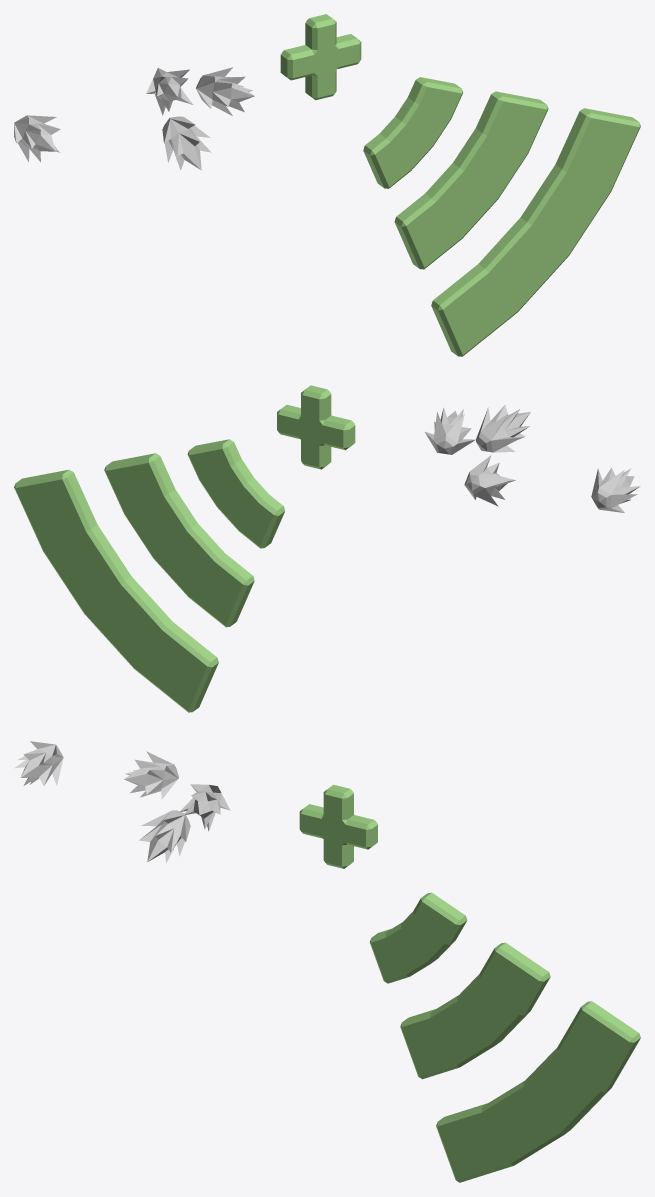
The model's file is FeedBackPack.fbx.
3 renders of one model, top to bottom at view 1: azimuth 30°, elevation 25°; view 2: azimuth 150°, elevation 25°; view 3: azimuth 330°, elevation 25°, orthographic. The views are drawn at different scales.
Visible parts, largest first — view 1: FB_Com, FB__FireTriple, FB_HealthRegen, FB__Fire; view 2: FB_Com, FB__FireTriple, FB_HealthRegen, FB__Fire; view 3: FB_Com, FB__FireTriple, FB_HealthRegen, FB__Fire.
Part boxes in pixels (bbox=[...]): FB_Com: bbox=[363, 77, 640, 356]; FB__FireTriple: bbox=[146, 67, 254, 170]; FB_HealthRegen: bbox=[280, 14, 361, 100]; FB__Fire: bbox=[14, 115, 60, 162]; FB_Com: bbox=[14, 439, 284, 712]; FB__FireTriple: bbox=[425, 405, 530, 506]; FB_HealthRegen: bbox=[277, 385, 355, 469]; FB__Fire: bbox=[591, 468, 640, 512]; FB_Com: bbox=[369, 892, 640, 1182]; FB__FireTriple: bbox=[124, 751, 230, 863]; FB_HealthRegen: bbox=[299, 784, 377, 868]; FB__Fire: bbox=[14, 741, 63, 785].
Bounding box in the file's own units: 8.5 × 4.8 × 1.03.
